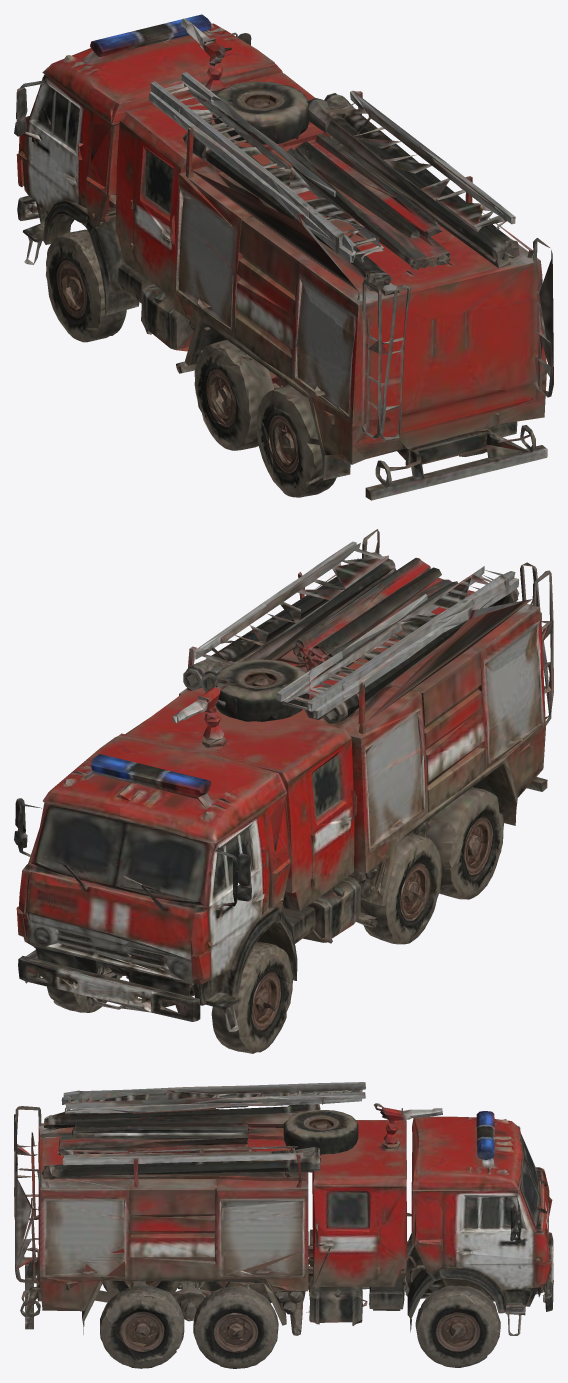
Rendered from kamaz_fire_truck_20k.glb.
3 views of the same model, one above another, from view 1: azimuth 30°, elevation 25°; view 2: azimuth 150°, elevation 25°; view 3: azimuth 270°, elevation 25° (orthographic). The views are drawn at different scales.
Parts seen in each view (by area): view 1: output_unwrapped; view 2: output_unwrapped; view 3: output_unwrapped.
Boxes of the visible parts, x1,y1,x2,y2 form: output_unwrapped: [14, 14, 553, 500]; output_unwrapped: [14, 529, 553, 1053]; output_unwrapped: [14, 1082, 553, 1368].
Size of the model in its own units: 3.12 by 3.85 by 8.2.
1 material, 1 textured.
